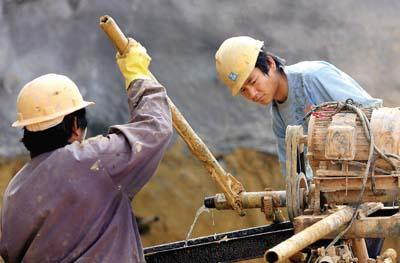gloves: (114, 37, 152, 90)
hard-hat: (11, 72, 95, 132), (214, 36, 264, 96)
person: (1, 14, 174, 263), (214, 35, 389, 261)
